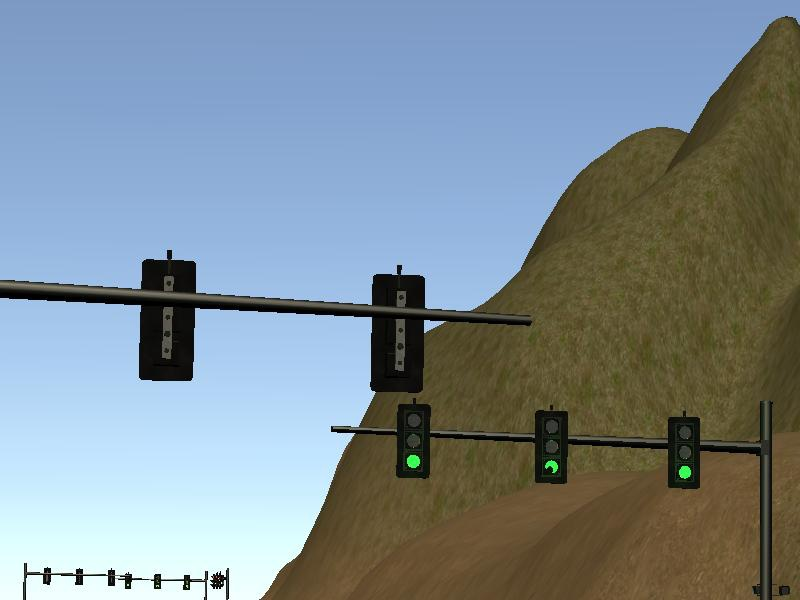Green: (396, 405, 430, 478), (534, 411, 568, 484), (668, 419, 699, 489), (124, 574, 133, 589), (154, 573, 161, 590), (183, 575, 189, 589)
